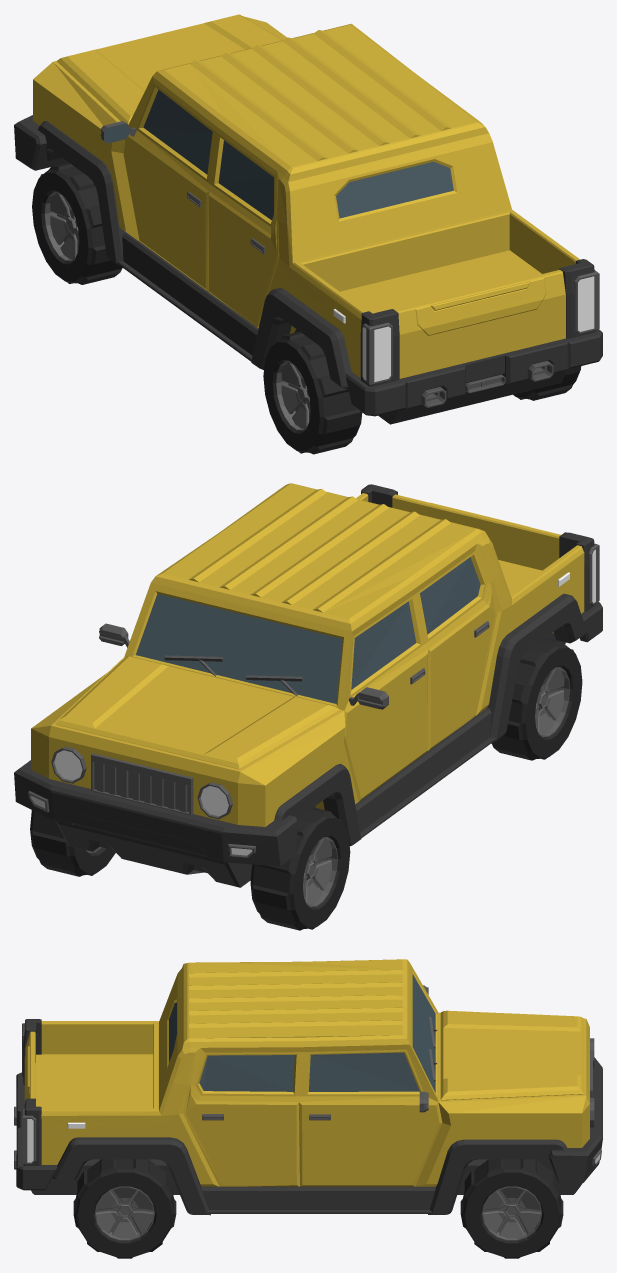
File: lp-suv-yellow.glb
3 views of the same model, one above another, from view 1: azimuth 30°, elevation 25°; view 2: azimuth 150°, elevation 25°; view 3: azimuth 270°, elevation 25° (orthographic). The views are drawn at different scales.
Visible parts, largest first — view 1: lp-suv-yellow; view 2: lp-suv-yellow; view 3: lp-suv-yellow.
Boxes of the visible parts, x1,y1,x2,y2 form: lp-suv-yellow: (14, 14, 602, 454); lp-suv-yellow: (14, 483, 602, 930); lp-suv-yellow: (14, 959, 602, 1258).
Size of the model in its own units: 2.32 by 1.97 by 4.95.
Materials: 1 (1 with a texture image).
